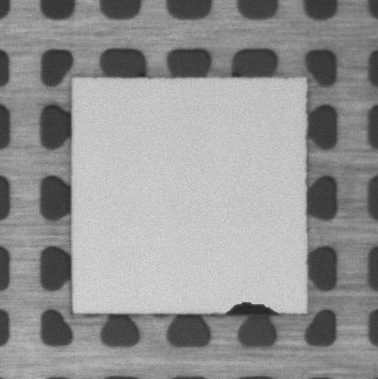DIE_BROKEN: (223, 300, 278, 317)
